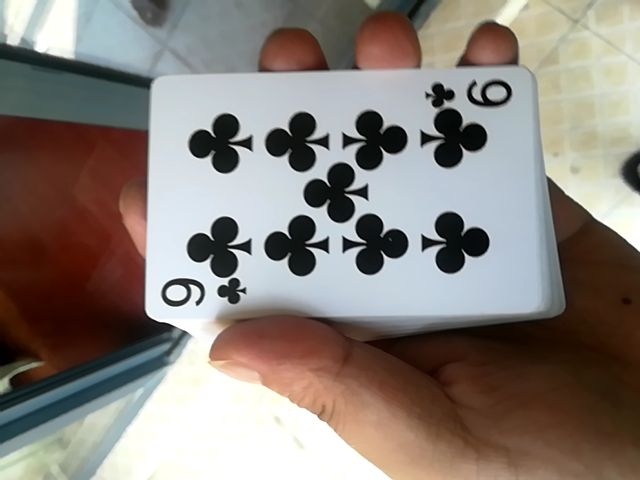mh 9: (136, 67, 556, 337)
